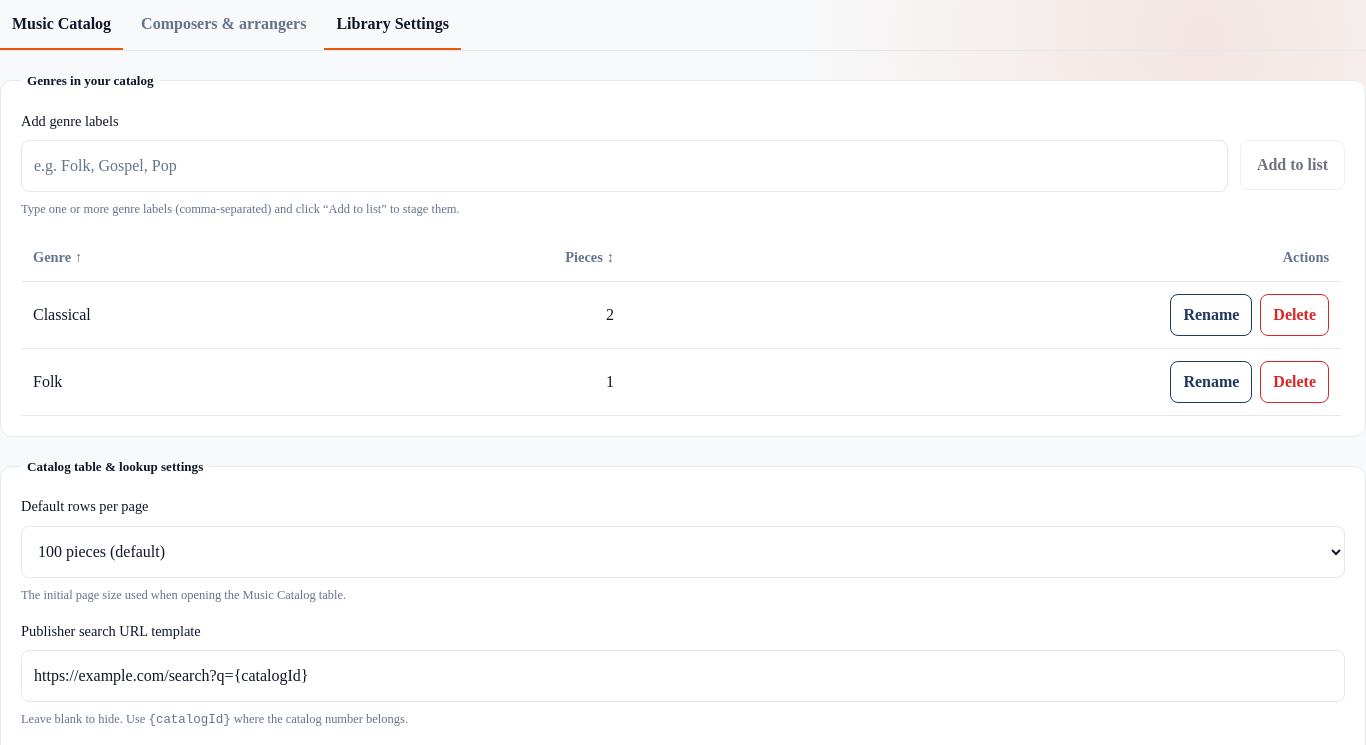
Test: MusicLibrarySettingsPage genre management with DataTable & batch add › stages a new genre and shows Pending status with batch save button
The width and height of the screenshot is (1366, 745).
Type "Jazz" into the field labelled "Add genre labels".
click(624, 166); type("Jazz")  # box [21,140,1228,192]
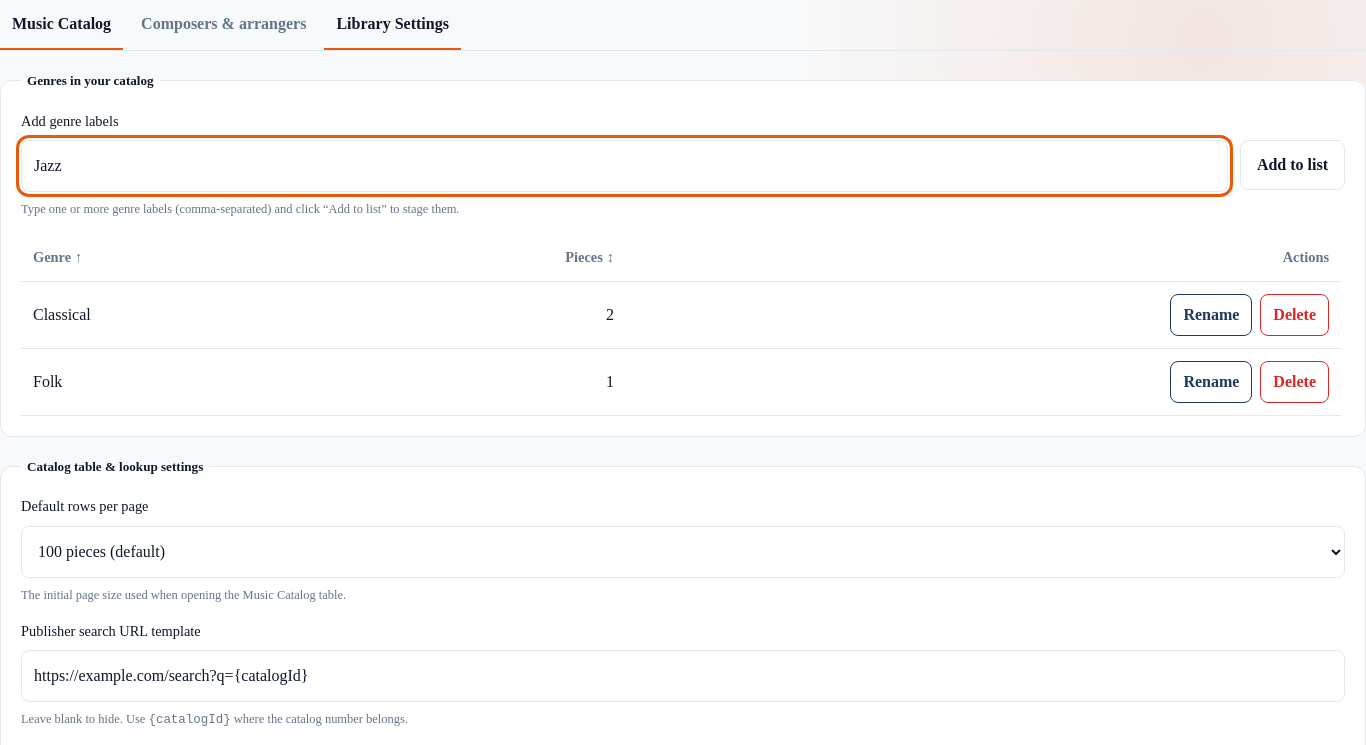
Click the button "Add to list".
click(1292, 165)  # box [1240,140,1345,190]
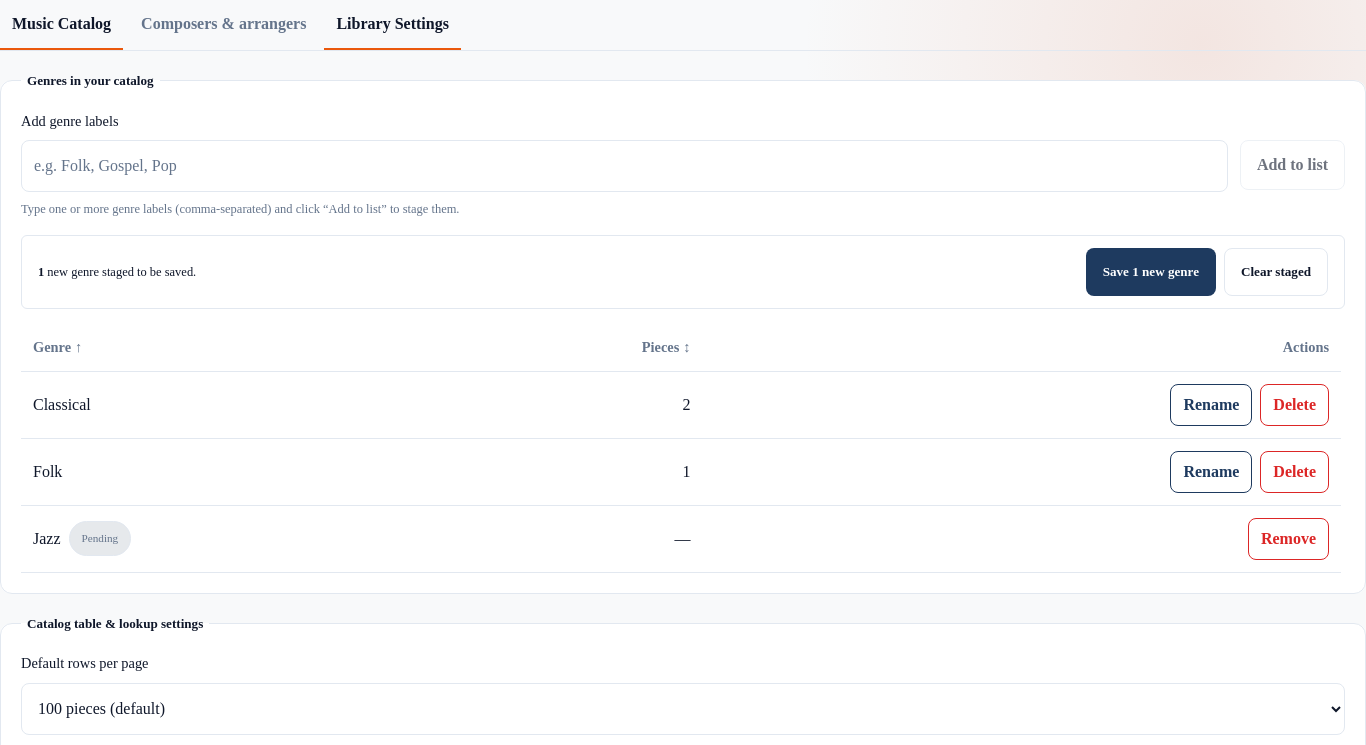
Now the field labelled "Add genre labels" is empty, box [21,140,1228,192]
Now the text "Jazz" is shown, box [33,527,60,551]
Now the text "Pending" is shown, box [68,521,131,556]
